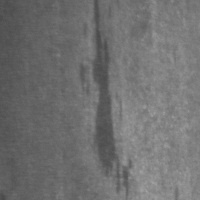inclusion: (91, 1, 136, 198)
